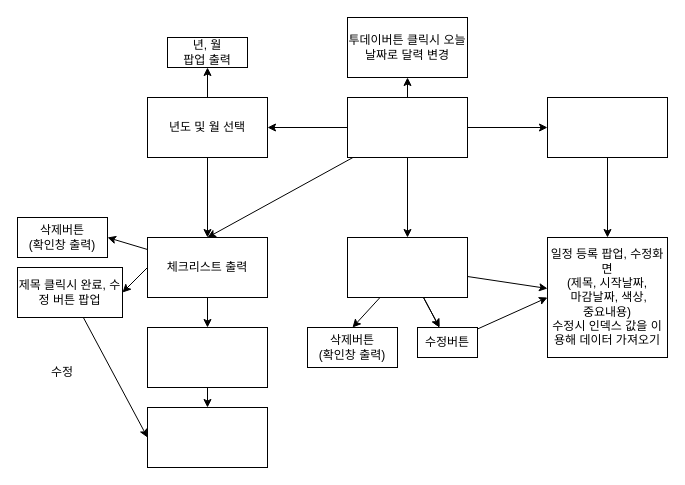
The diagram is 685 pixels wide and 485 high, and some of its shapes have lost their labels. Here are the shapes that lost their labels. From the top down, the box of each, then its label:
(346, 96, 468, 158): 메인 (스케쥴 달력 출력)
(546, 96, 668, 158): 일정등록
(346, 236, 468, 298): 날짜 선택시 일정 리스트 팝업
(146, 326, 268, 388): 체크리스트 추가 버튼 최대 10개 까지 등록
(146, 406, 268, 468): 제목 정보만 저장
